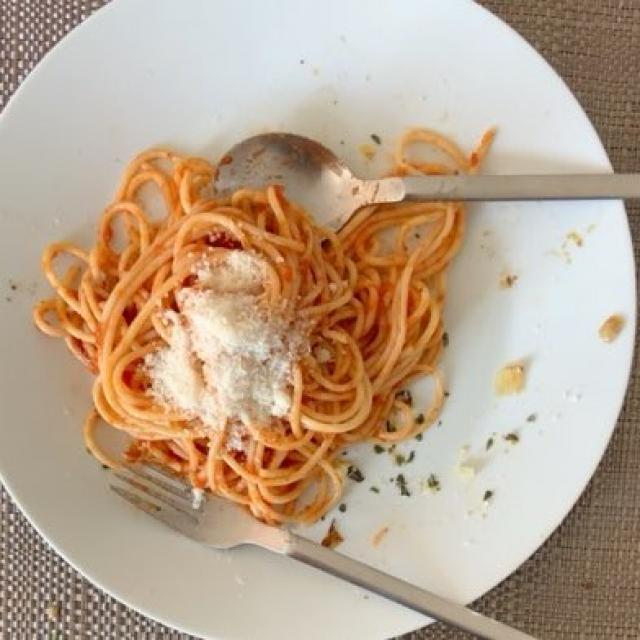cheese: (138, 253, 308, 437)
pasta: (36, 139, 462, 504)
